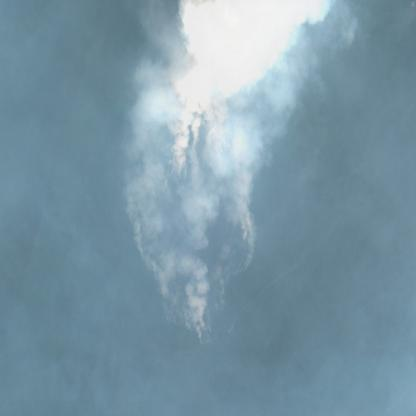fire: (132, 90, 260, 346)
